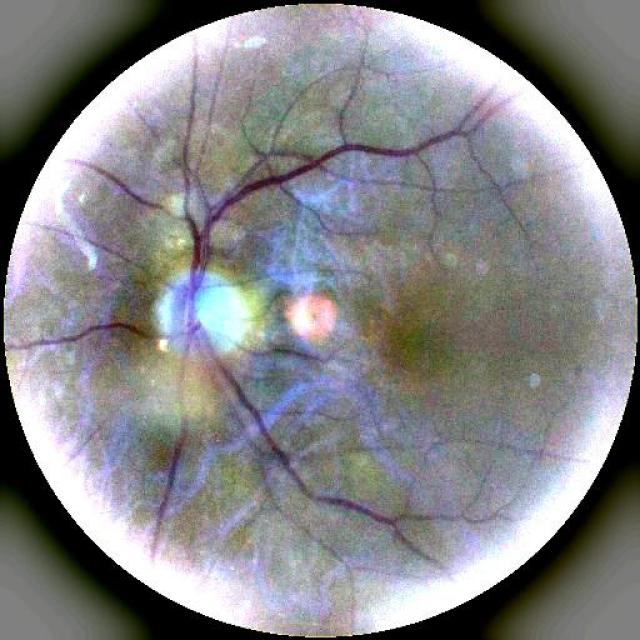Macula: (377, 326, 459, 375)
Nerves: (80, 66, 514, 570)
Optic Disk: (195, 275, 251, 349), (160, 292, 170, 329)
